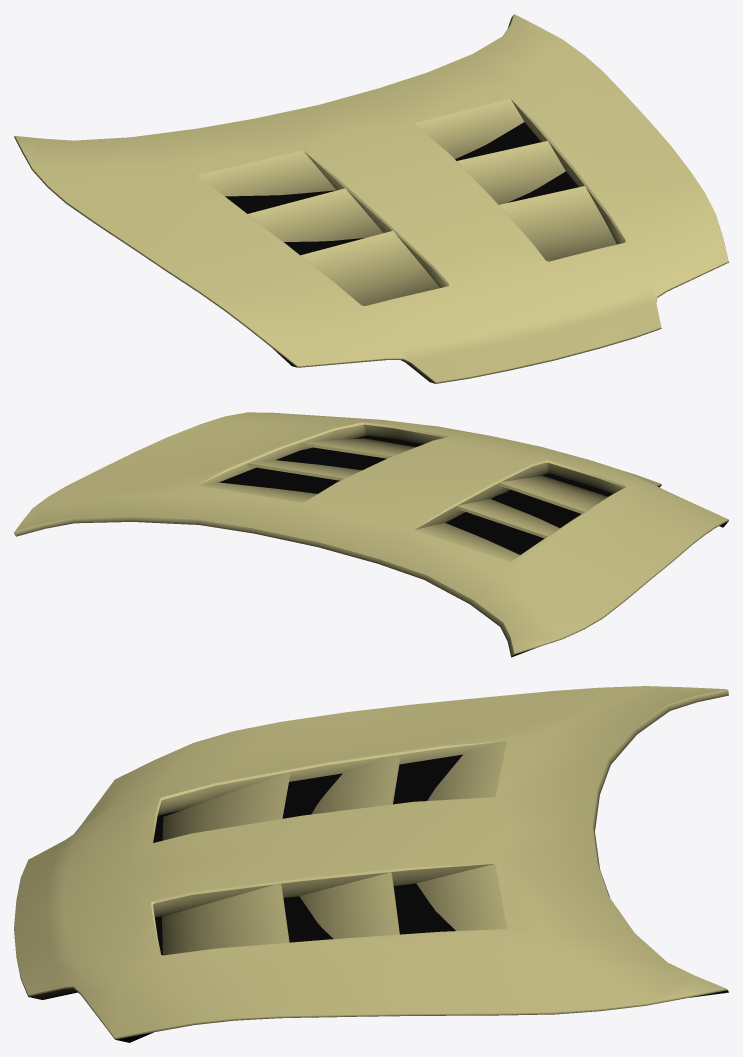
The model's file is Supra_Bonnet_02_Duco.fbx.
3 renders of one model, top to bottom at view 1: azimuth 30°, elevation 25°; view 2: azimuth 150°, elevation 25°; view 3: azimuth 270°, elevation 25°, orthographic. The views are drawn at different scales.
Parts seen in each view (by area): view 1: Supra_Bonnet_02_Duco; view 2: Supra_Bonnet_02_Duco; view 3: Supra_Bonnet_02_Duco.
Part boxes in pixels (bbox=[...]): Supra_Bonnet_02_Duco: bbox=[14, 14, 728, 383]; Supra_Bonnet_02_Duco: bbox=[14, 412, 728, 657]; Supra_Bonnet_02_Duco: bbox=[14, 686, 728, 1042].
Size of the model in its own units: 157 by 24.03 by 147.
